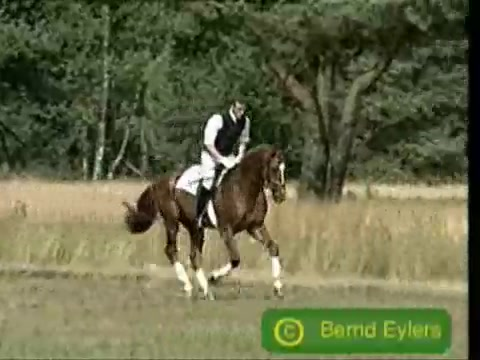horse: (122, 143, 291, 303)
